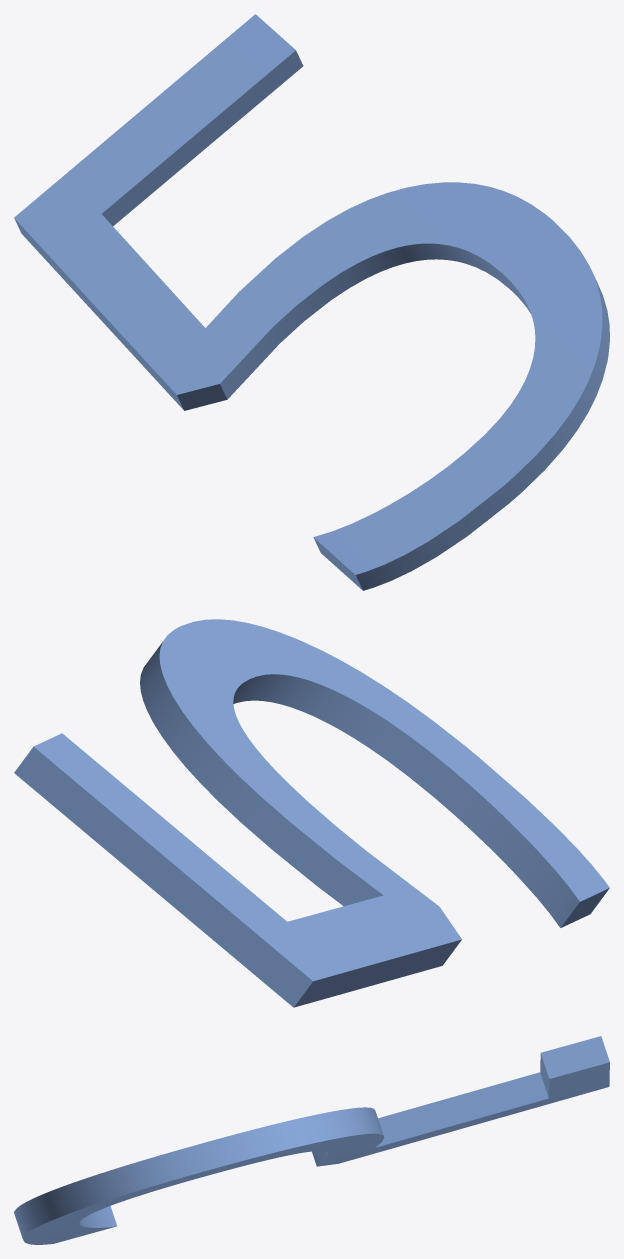
File: New_Number_5.gltf
3 renders of one model, top to bottom at view 1: azimuth 30°, elevation 25°; view 2: azimuth 150°, elevation 25°; view 3: azimuth 270°, elevation 25°, orthographic. The views are drawn at different scales.
Visible parts, largest first — view 1: Part 725; view 2: Part 725; view 3: Part 725.
Boxes of the visible parts, bbox=[...] form: Part 725: bbox=[14, 14, 609, 590]; Part 725: bbox=[14, 619, 609, 1007]; Part 725: bbox=[14, 1036, 609, 1244].
Size of the model in its own units: 0.00336 by 0.00296 by 0.00546.
